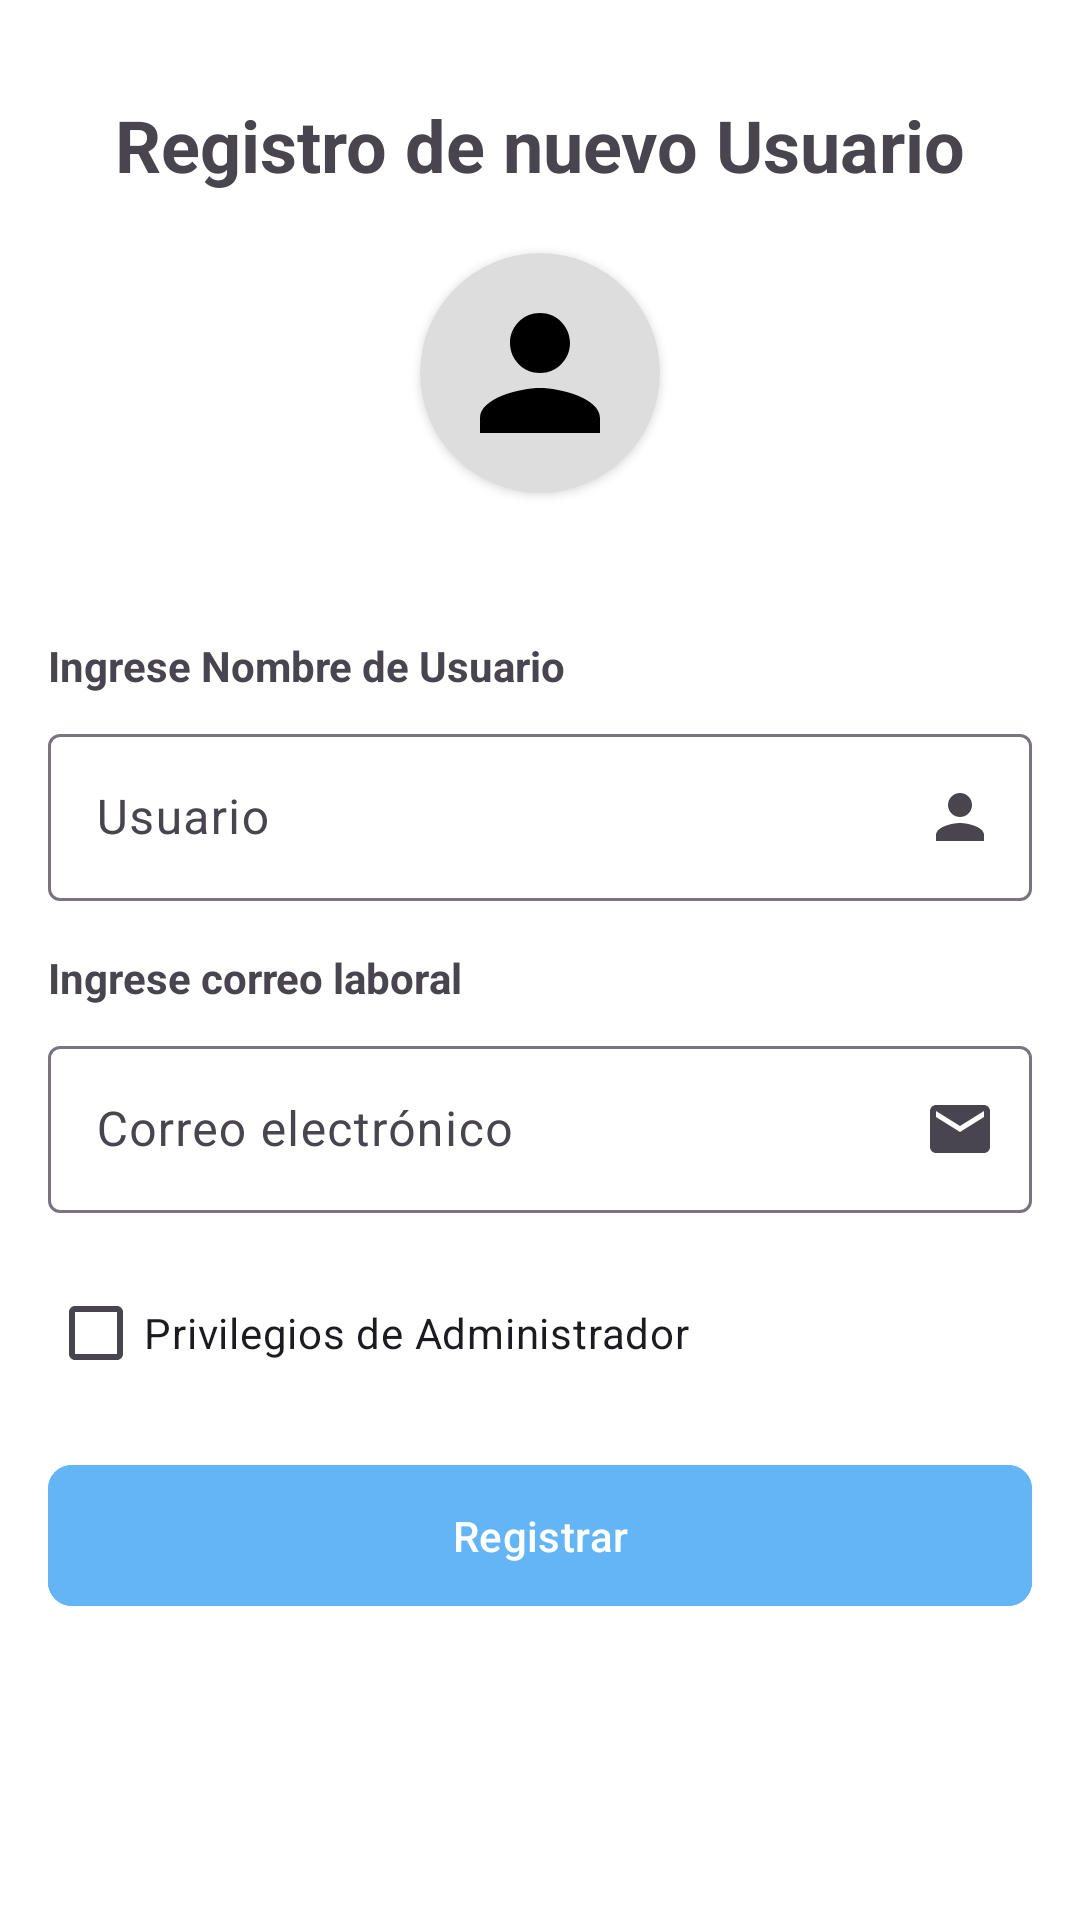

Where to tap for icons on this 1080×1920 app screen, as point (x, y):
user: point (540, 373)
